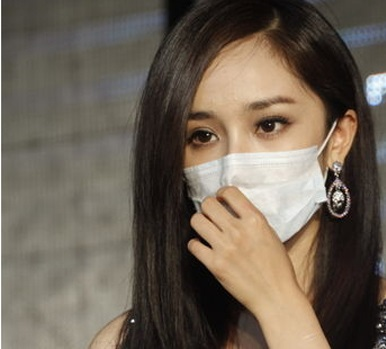face_mask: (175, 47, 323, 236)
